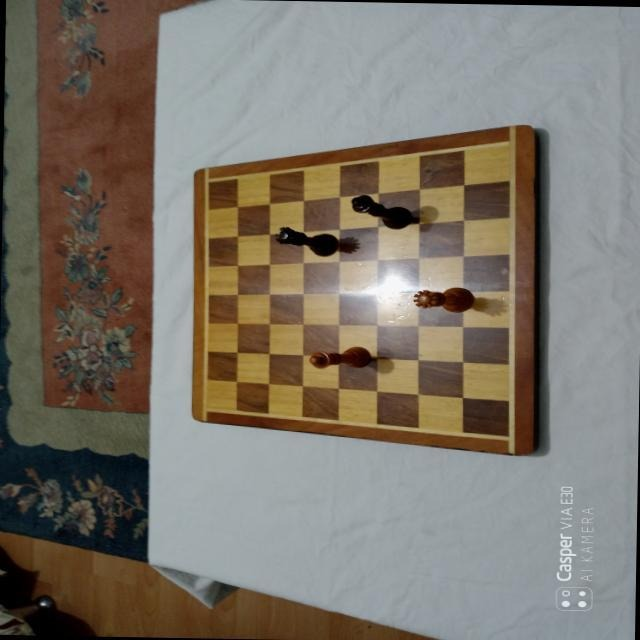black-king: (349, 192, 413, 228)
black-queen: (272, 224, 339, 255)
white-king: (308, 343, 371, 368)
white-queen: (412, 284, 474, 311)
